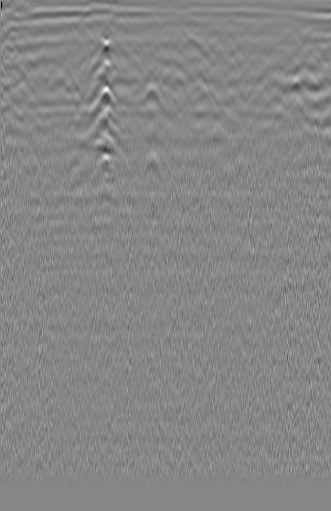가스: (90, 182, 127, 214)
상수: (0, 24, 32, 50)
오수: (289, 59, 322, 88)
우수: (138, 18, 166, 45)
